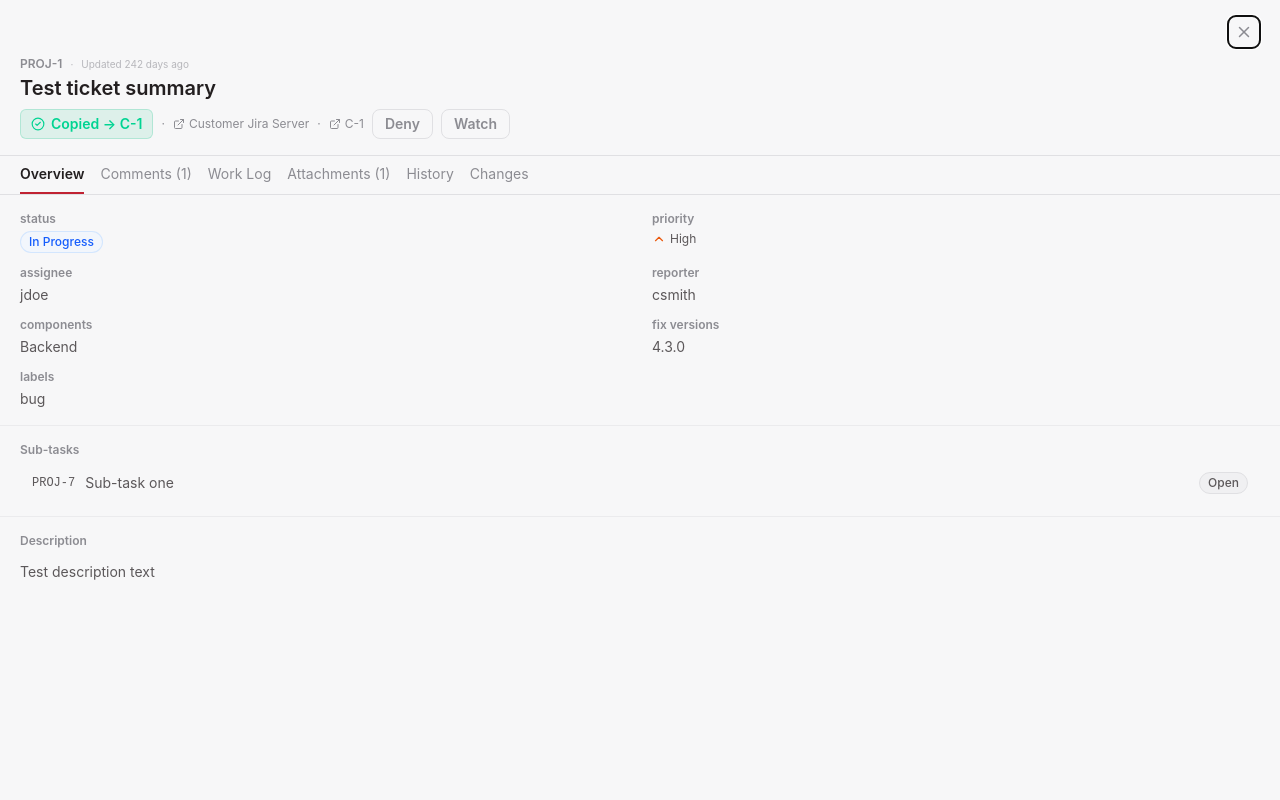
Test case: TicketDetailPanel › Phase 37.2 watch › Esc in the watch dialog closes only the dialog
Click the button "Watch".
click(475, 124)  # box left=441, top=109, right=510, bottom=139
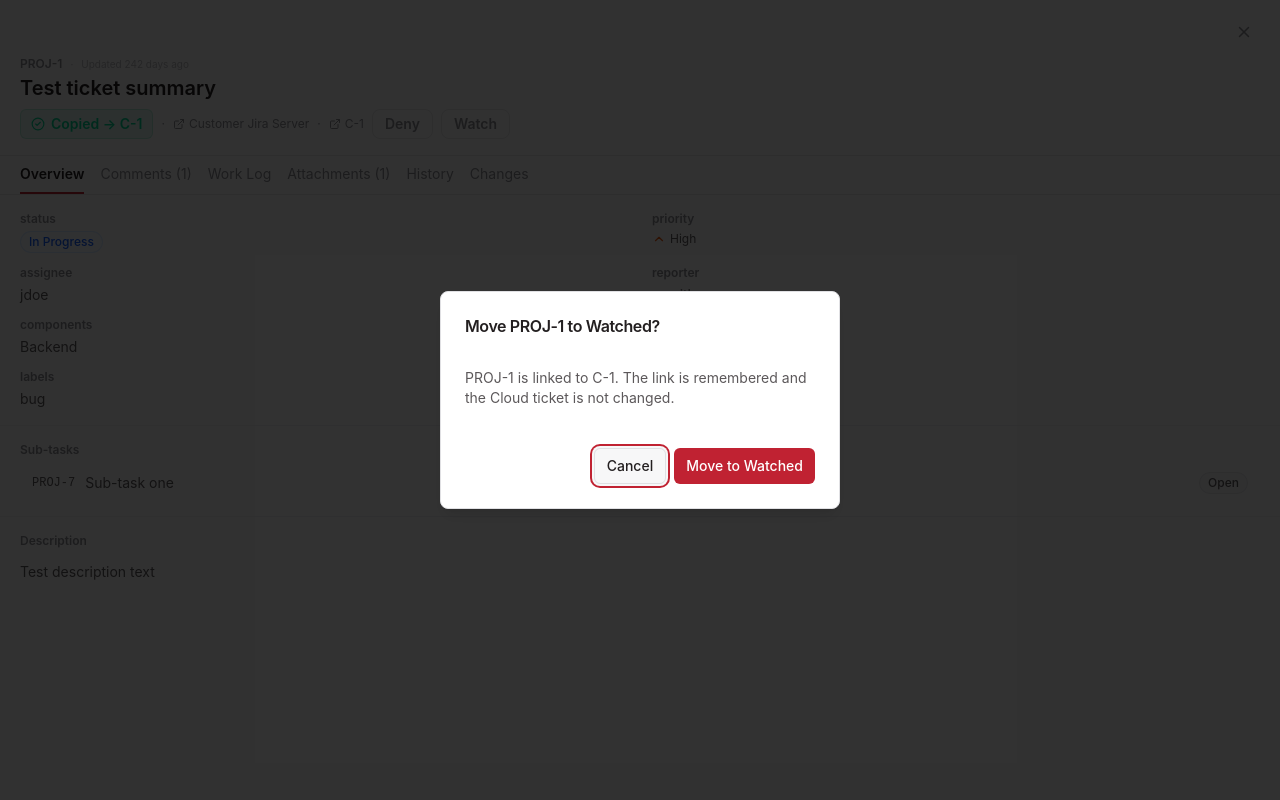
Press Escape in the dialog, box left=440, top=291, right=840, bottom=509
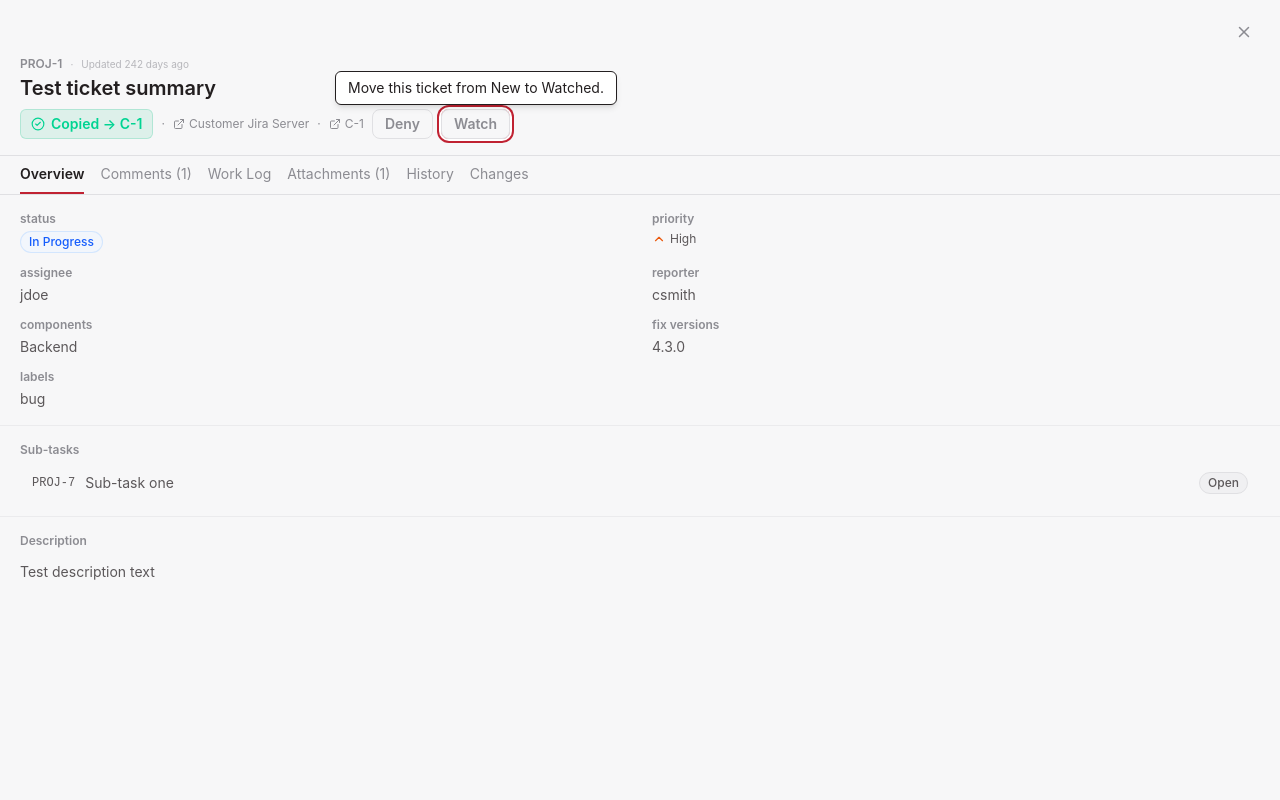
Expected: the dialog is gone
